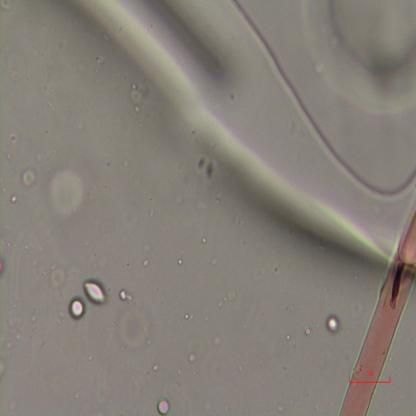Air bubble: (81, 0, 397, 272)
Background material: (303, 2, 416, 123), (46, 166, 90, 225), (112, 301, 157, 352), (187, 149, 219, 180), (209, 282, 239, 307), (44, 260, 65, 293), (15, 159, 37, 190), (84, 278, 106, 309), (112, 280, 132, 304), (182, 338, 199, 365), (68, 296, 86, 320), (326, 312, 342, 339), (131, 85, 143, 119), (0, 249, 11, 284), (152, 398, 172, 414), (0, 0, 16, 13), (181, 309, 193, 323), (214, 332, 224, 348), (303, 324, 314, 338), (16, 326, 24, 345), (146, 203, 155, 218), (200, 234, 210, 245), (142, 256, 150, 269), (152, 362, 161, 372), (175, 254, 184, 264), (215, 194, 222, 206), (10, 192, 18, 202), (210, 256, 217, 266), (274, 264, 280, 273), (286, 332, 291, 341)
Microfibre: (337, 198, 416, 414)
